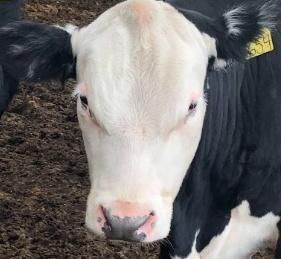muzzles: (84, 197, 172, 249)
